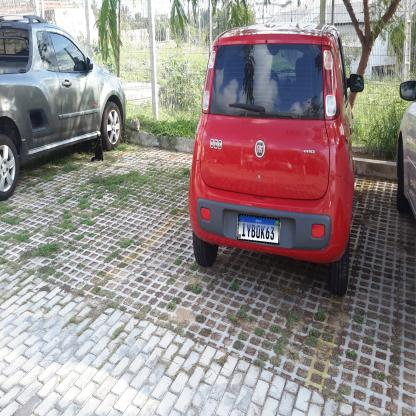PlacaM: (237, 214, 280, 245)
